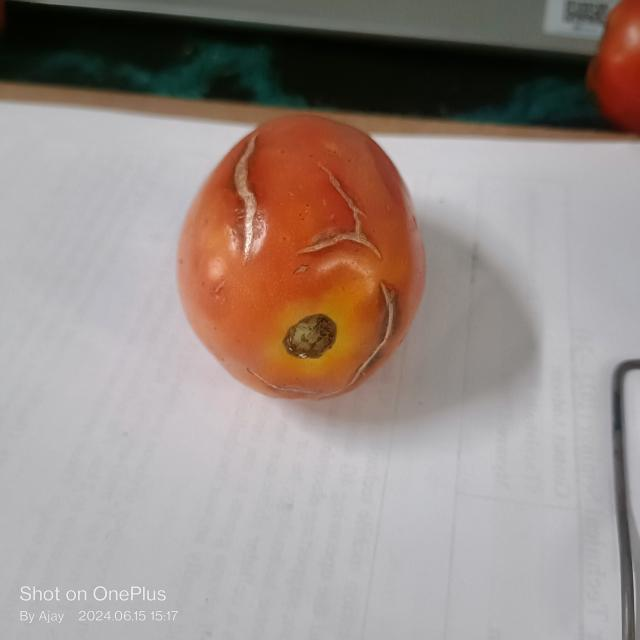tomato_cracking: (298, 159, 395, 263), (350, 287, 406, 386), (234, 134, 257, 259)
